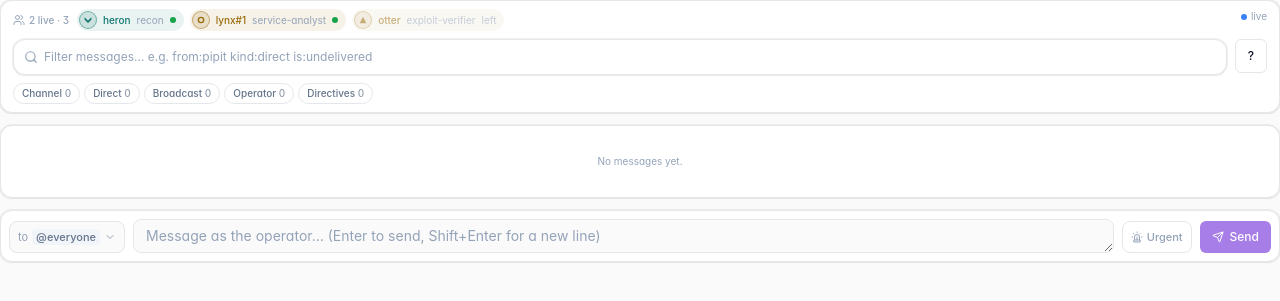
Composer › is disabled with the reason when the server answers 409
expect the element with test id "composer" is shown: met, box [0,210,1279,262]
Replace the text in the text box labelled "Message" with "anyone there?" at x=623, y=236, box [133,219,1114,253]
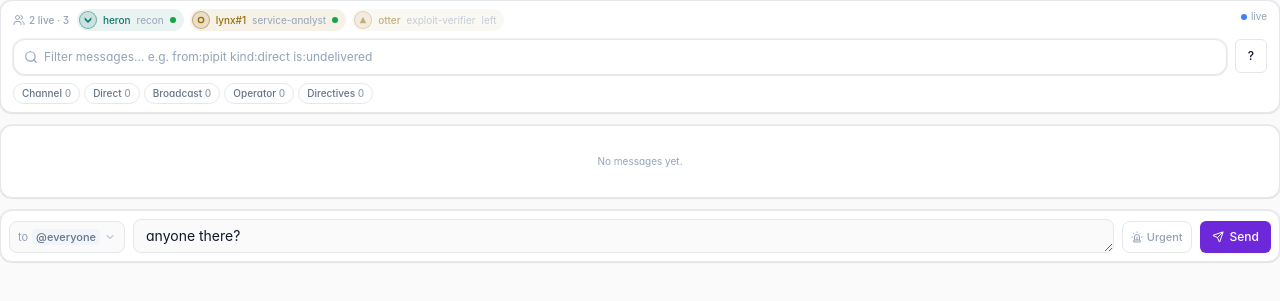
Click the button "Send" at x=1235, y=237, box [1200,221,1271,253]
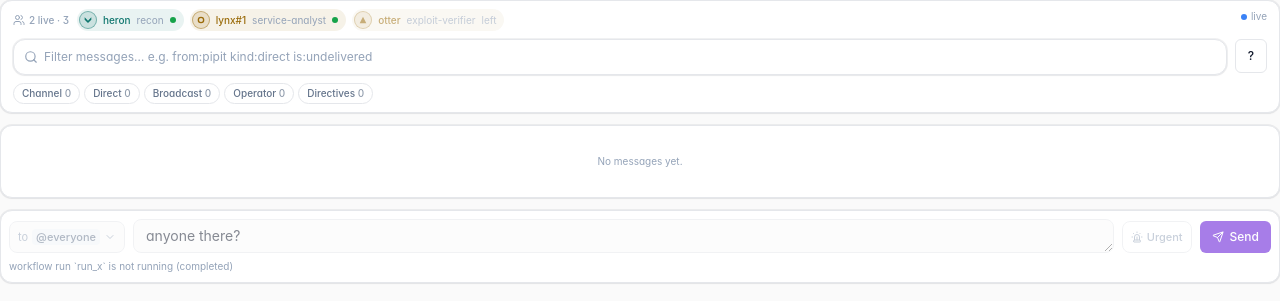
expect the text with test id "composer-disabled" reads "workflow run `run_x` is not running (completed)": met, box [9,260,233,272]
expect the text box named "Message" is disabled: met, box [133,219,1114,253]
